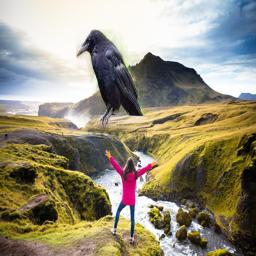Crow: (76, 29, 147, 148)
